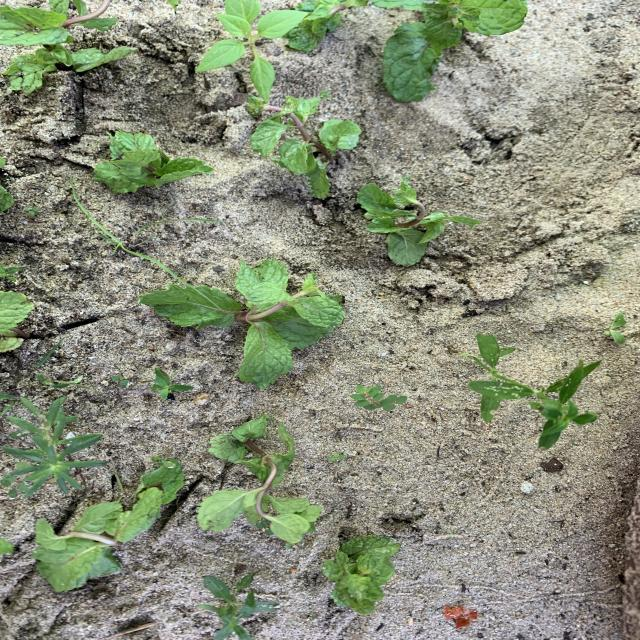crop: (146, 259, 343, 387), (286, 0, 527, 103), (32, 461, 184, 591), (197, 416, 323, 546), (0, 0, 136, 93), (248, 94, 360, 197), (360, 178, 479, 265), (94, 132, 212, 191), (323, 535, 399, 614), (1, 291, 35, 351), (1, 182, 13, 211), (1, 538, 14, 554)
weed: (468, 335, 600, 449), (1, 396, 105, 497), (197, 1, 303, 97), (199, 574, 278, 640), (351, 385, 407, 411), (152, 368, 192, 399), (135, 215, 172, 239), (36, 336, 64, 367), (604, 312, 626, 342), (37, 375, 88, 387), (1, 264, 20, 281), (24, 205, 39, 216), (112, 376, 128, 386), (329, 453, 343, 461), (1, 393, 15, 400), (321, 90, 331, 98)
